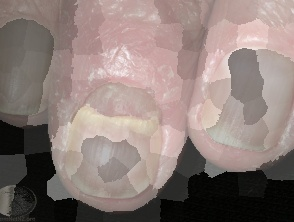Nail_psoriasis: (55, 71, 182, 211)
